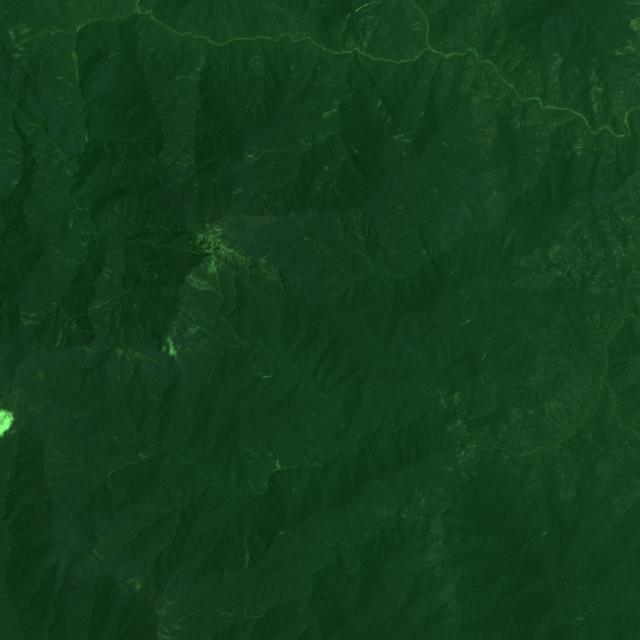landslides: (187, 275, 223, 298), (200, 260, 221, 292), (19, 26, 50, 44), (338, 13, 351, 51), (246, 448, 268, 468), (195, 340, 224, 355), (56, 320, 69, 347), (91, 294, 116, 308), (36, 149, 59, 163), (355, 0, 380, 12), (245, 523, 251, 570), (16, 24, 39, 35), (0, 147, 22, 158), (372, 99, 382, 122), (68, 208, 78, 230), (189, 281, 210, 291), (184, 326, 199, 339), (187, 348, 201, 361), (159, 622, 172, 635), (92, 549, 107, 560), (244, 146, 260, 156), (183, 324, 195, 337), (397, 130, 415, 138), (322, 109, 338, 118), (304, 237, 320, 246), (176, 75, 200, 81), (181, 404, 193, 416), (147, 171, 163, 180), (373, 248, 380, 268), (108, 474, 115, 493), (417, 79, 429, 90), (0, 159, 22, 165), (616, 48, 632, 56), (393, 136, 411, 143), (166, 178, 180, 187), (157, 631, 171, 639), (21, 319, 39, 325), (12, 52, 30, 58), (201, 336, 213, 345), (29, 311, 47, 317), (345, 145, 358, 153), (88, 555, 98, 565)
